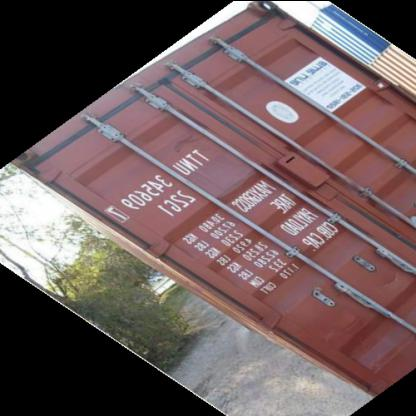Damage: (320, 308, 364, 348), (160, 124, 198, 158), (366, 267, 400, 295)
